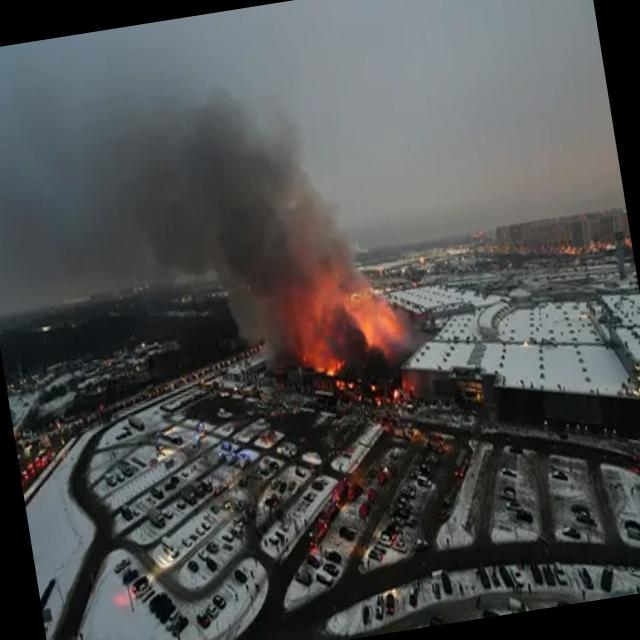Fire: (282, 245, 408, 392)
Smoke: (12, 0, 339, 316)
